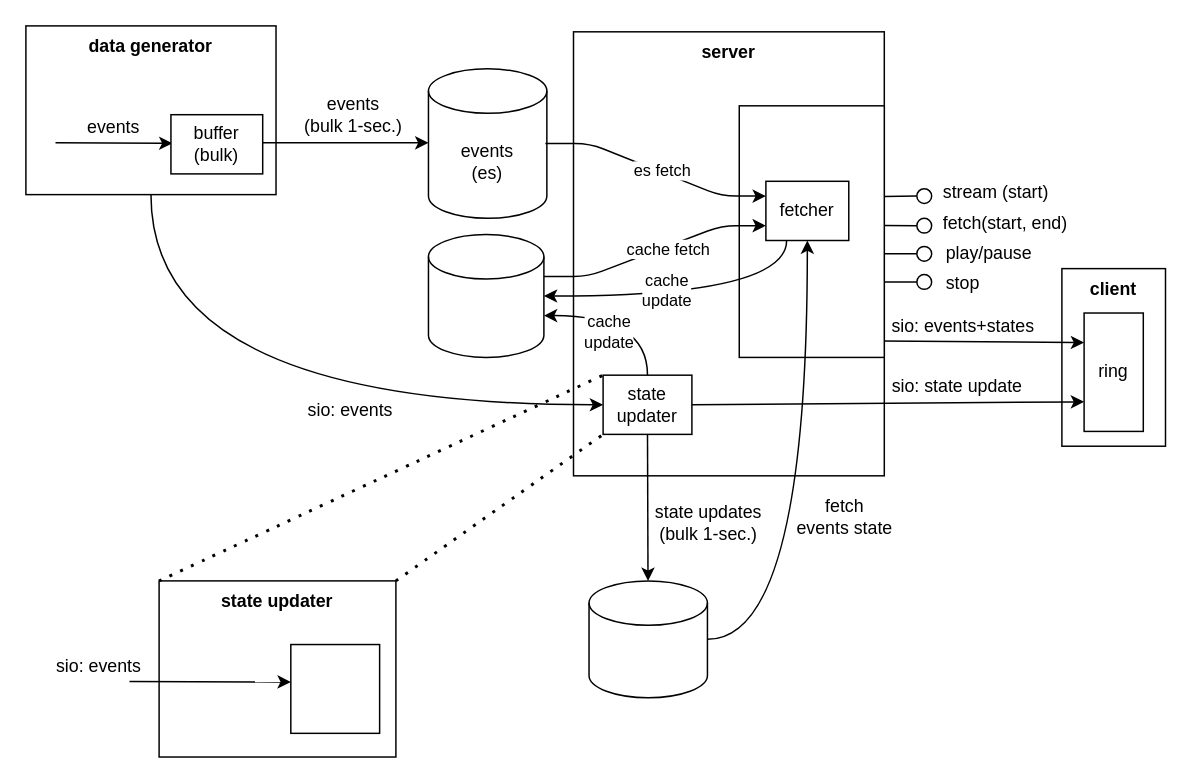
Image size: 1191x783. Some labels were removed from this diagram. Here are the shapes that lost their labels. From the top down, the box of each, then its label:
(738, 104, 884, 357): streamer (per client)
(427, 233, 544, 357): cache (redis)
(588, 579, 707, 698): states (mysql)
(289, 643, 380, 733): short history ring
